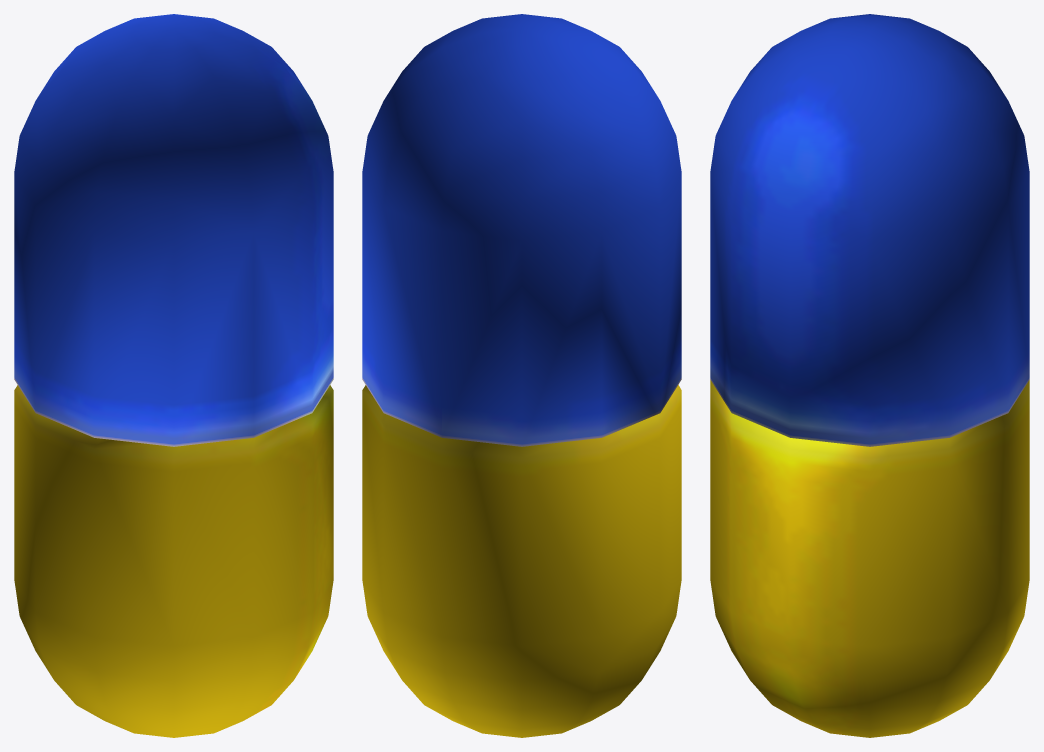
Rendered from akira.ico.obj.
3 renders of one model, left to right at view 1: azimuth 30°, elevation 25°; view 2: azimuth 150°, elevation 25°; view 3: azimuth 270°, elevation 25°, orthographic.
Bounding box in the file's own units: 2.08 × 4.98 × 2.08.
Materials: 1 (1 with a texture image).
